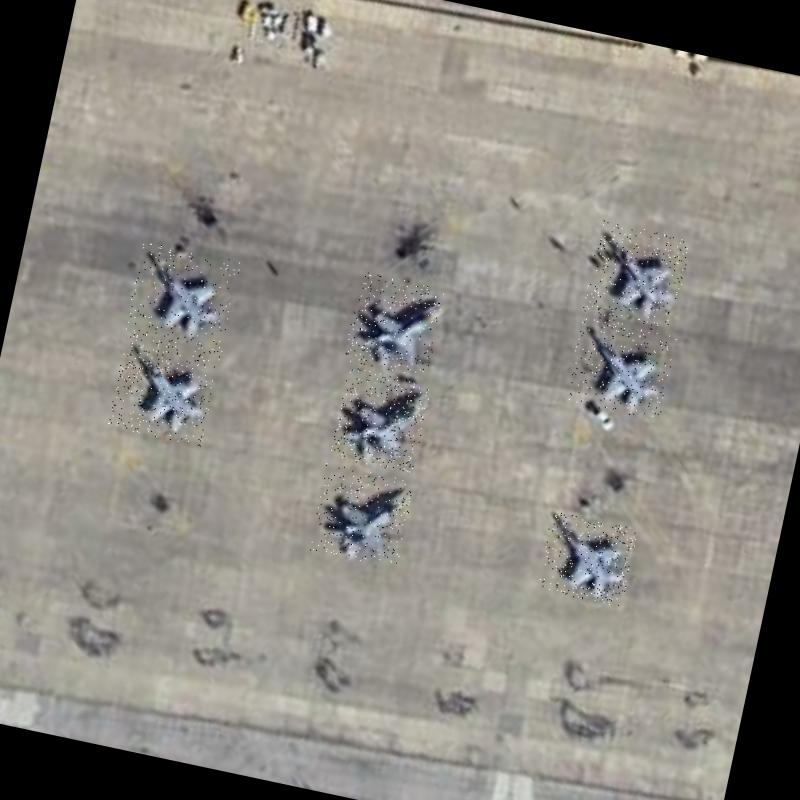A16: (107, 332, 221, 446), (125, 241, 242, 352), (564, 314, 678, 422), (582, 220, 692, 330), (308, 463, 416, 570), (343, 271, 446, 378), (330, 366, 432, 474), (536, 511, 638, 608)
